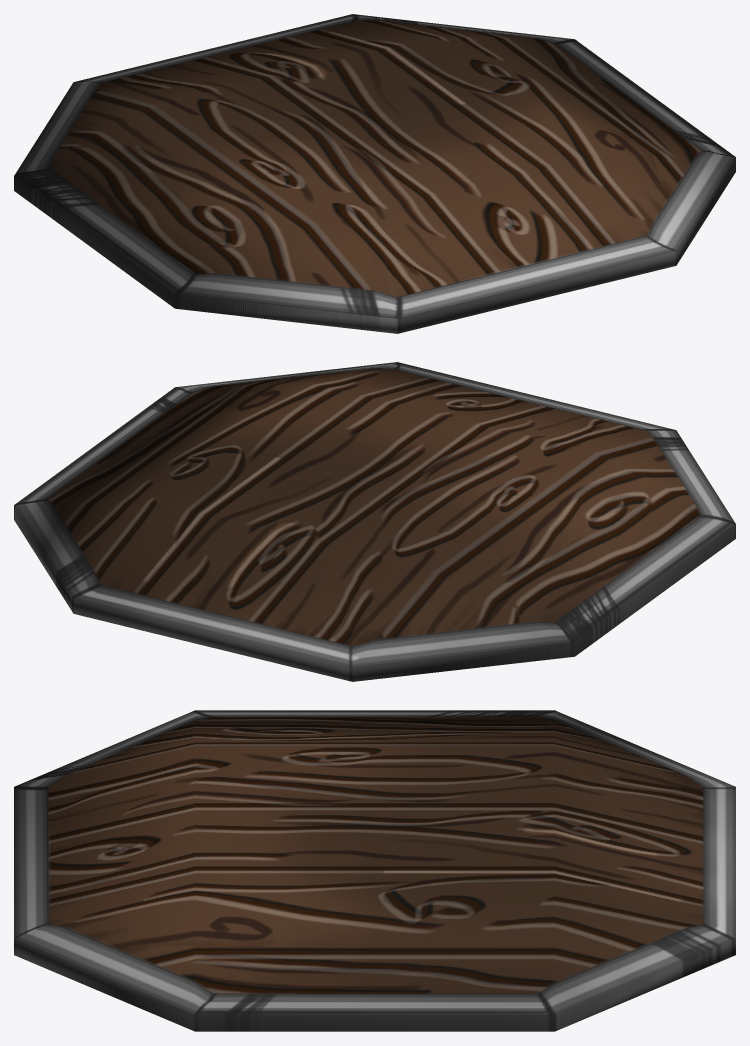
The model's file is Shield.fbx.
The picture shows the model from 3 angles, top to bottom: view 1: azimuth 30°, elevation 25°; view 2: azimuth 150°, elevation 25°; view 3: azimuth 270°, elevation 25°; orthographic projection. The views are drawn at different scales.
Visible parts, largest first — view 1: Shield; view 2: Shield; view 3: Shield.
Part boxes in pixels (x1,y1,x2,y2): Shield: (14, 14, 735, 333); Shield: (14, 362, 735, 681); Shield: (14, 710, 735, 1031).
Size of the model in its own units: 1.43 by 0.1278 by 1.43.
